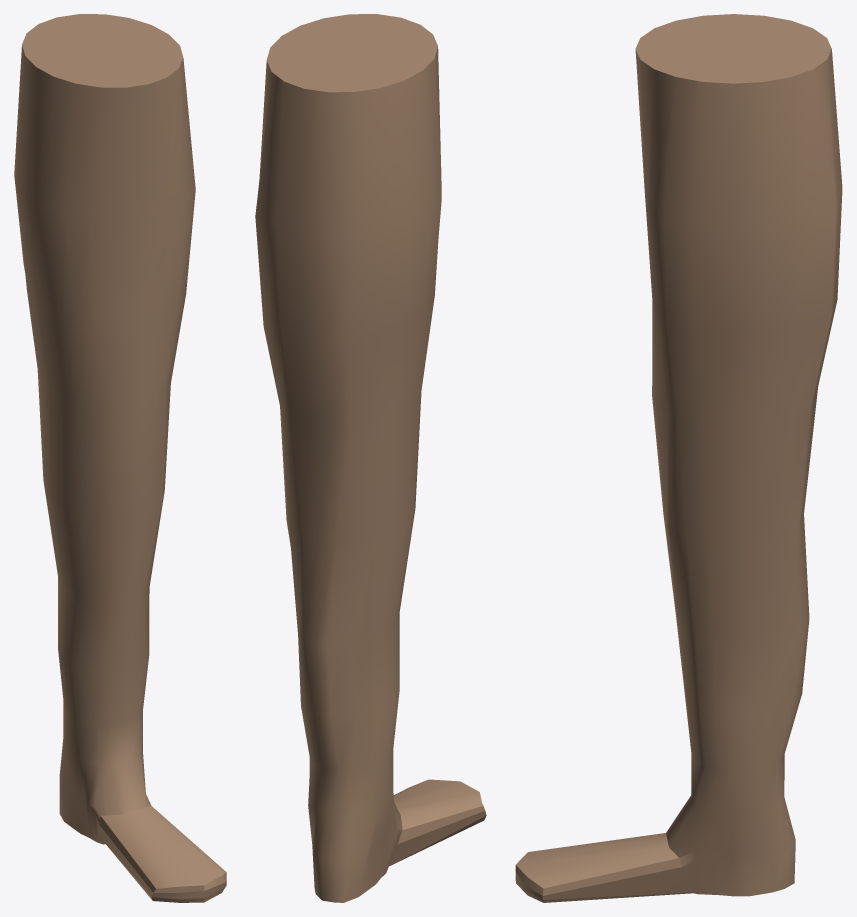
File: DismemberedLeg.fbx
3 renders of one model, left to right at view 1: azimuth 30°, elevation 25°; view 2: azimuth 150°, elevation 25°; view 3: azimuth 270°, elevation 25°, orthographic. The views are drawn at different scales.
Parts seen in each view (by area): view 1: Dismembered_leg; view 2: Dismembered_leg; view 3: Dismembered_leg.
Part boxes in pixels (box(x1,y1,x2,y2)): Dismembered_leg: box(14, 14, 226, 902); Dismembered_leg: box(255, 14, 486, 902); Dismembered_leg: box(515, 14, 842, 902).
Size of the model in its own units: 0.2173 by 1.08 by 0.383.
